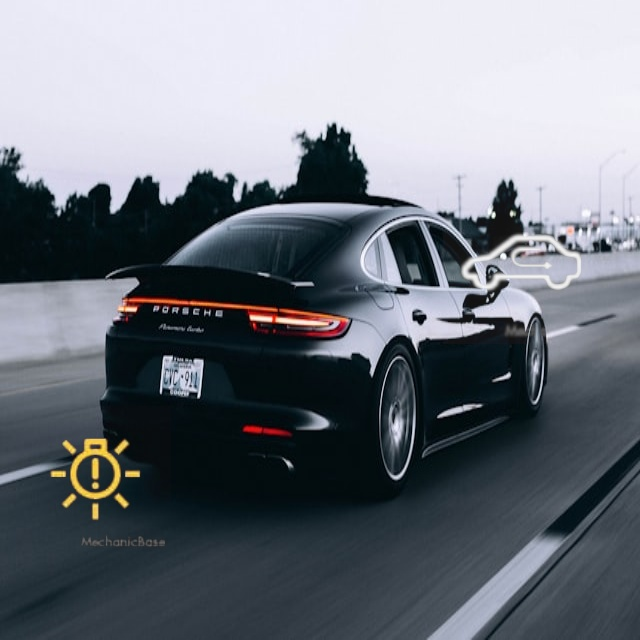symbol: (443, 185, 602, 344), (23, 406, 171, 554)
